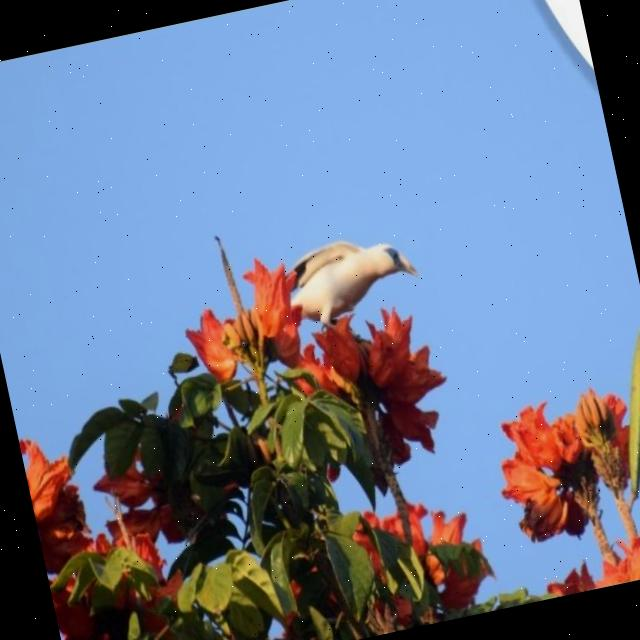Jalak Bali: (246, 194, 457, 386)
